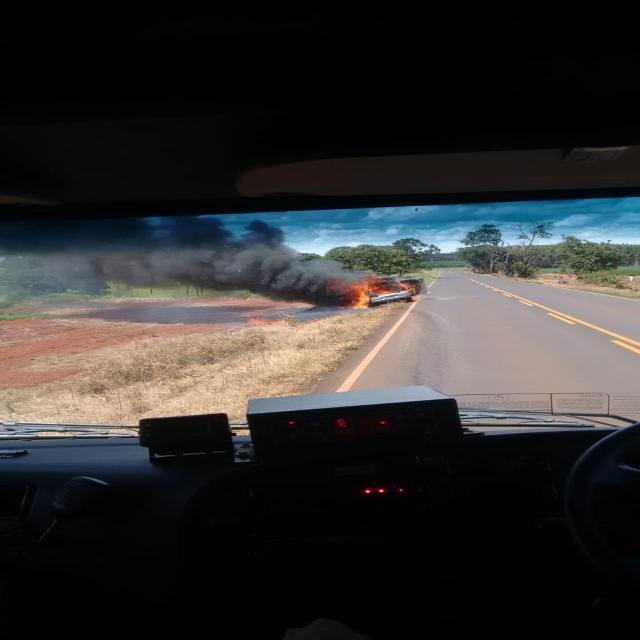smoke: (39, 227, 338, 306)
